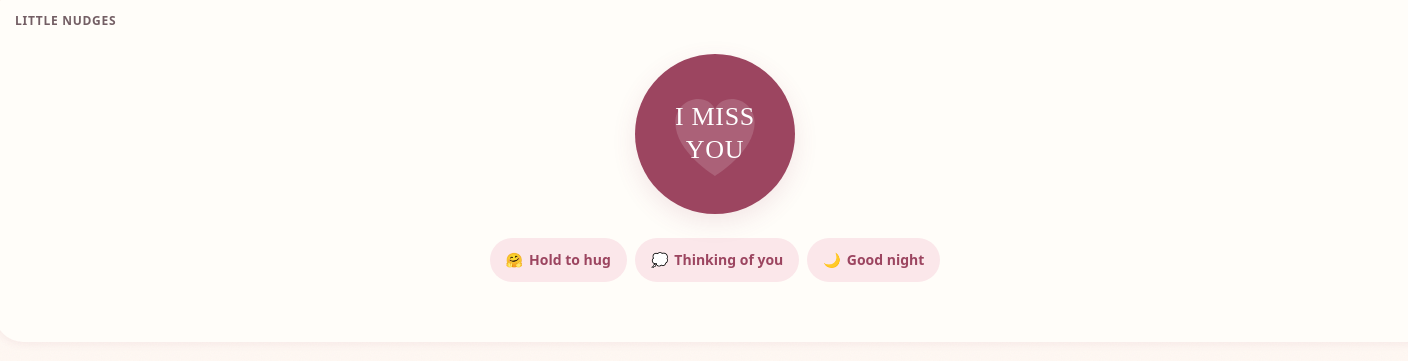
NudgePad › sends "I miss you" from the big heart and confirms it
The width and height of the screenshot is (1408, 361).
Click the button with aria-label "Send “I miss you” to Partner Name": (715, 134) x1=635 y1=54 x2=795 y2=214
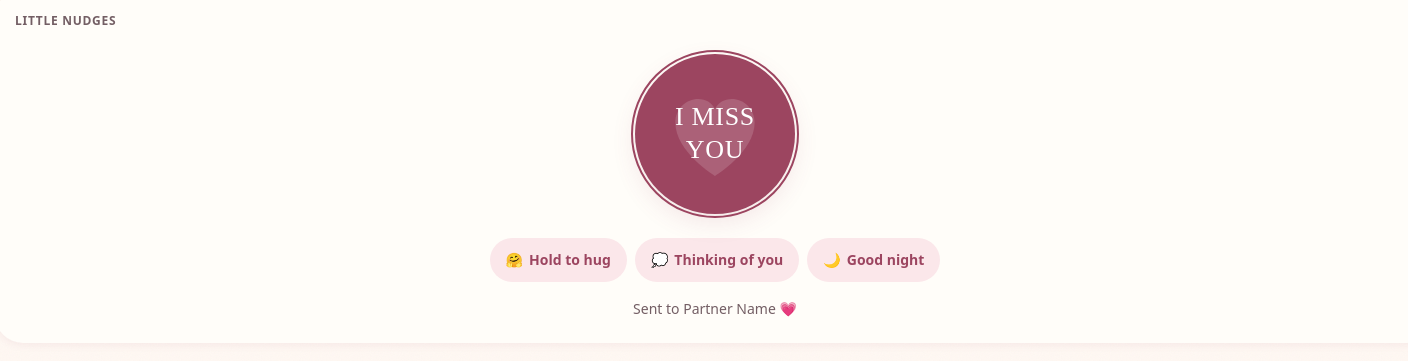
Expected: the text "Sent to Partner Name 💗" is shown, x1=633 y1=298 x2=797 y2=319
